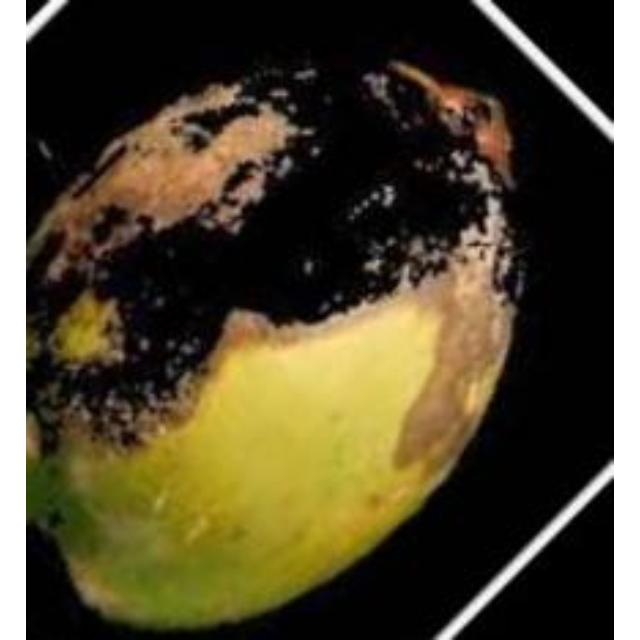damaged: (26, 60, 527, 626)
